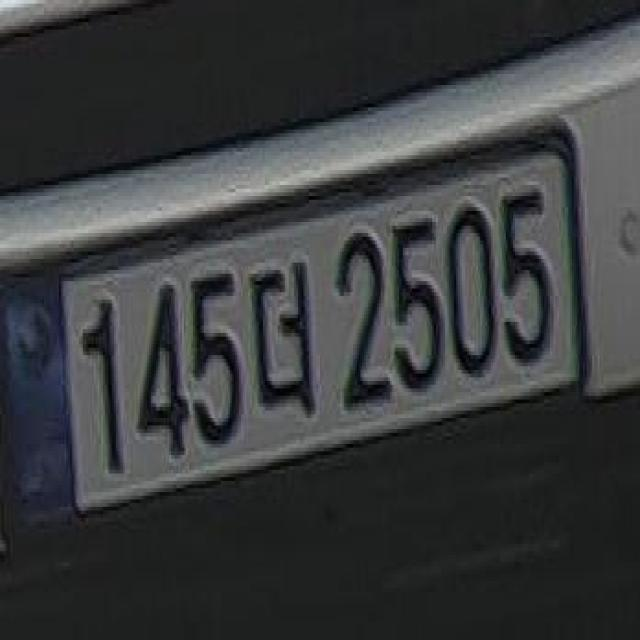illegal_plate: (4, 127, 596, 538)
